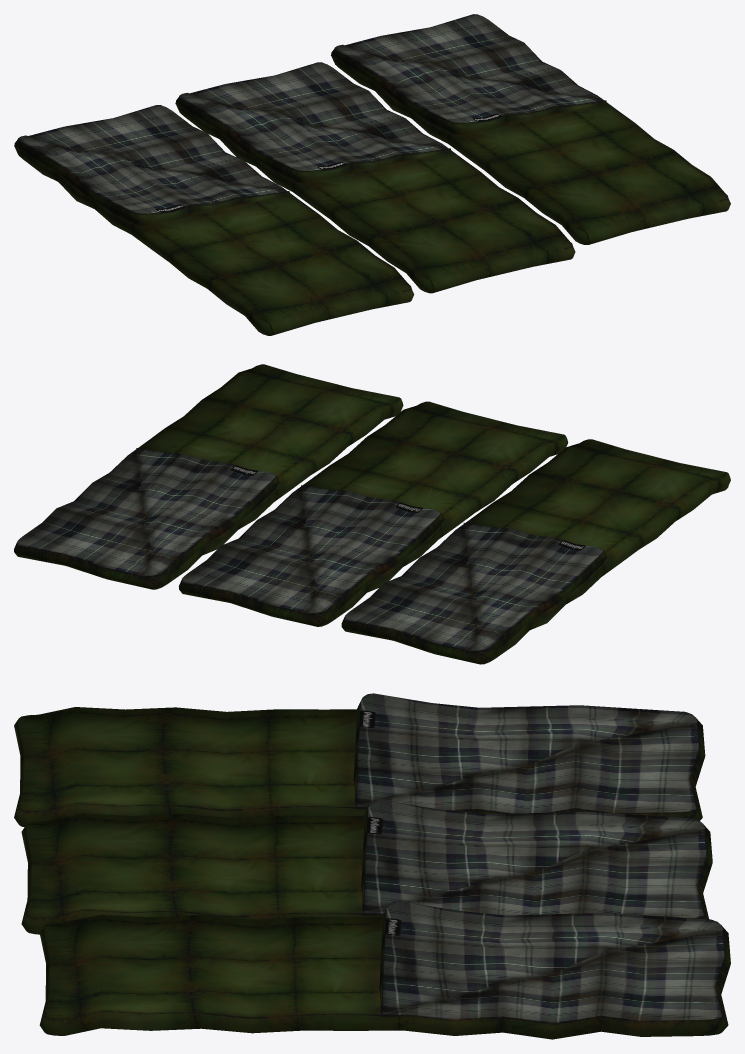
Rendered from sleepingbags.glb.
3 renders of one model, top to bottom at view 1: azimuth 30°, elevation 25°; view 2: azimuth 150°, elevation 25°; view 3: azimuth 270°, elevation 25°, orthographic. The views are drawn at different scales.
Parts seen in each view (by area): view 1: Cube.003, Cube.002, Cube.001; view 2: Cube.001, Cube.003, Cube.002; view 3: Cube.001, Cube.003, Cube.002.
Boxes of the visible parts, x1,y1,x2,y2 form: Cube.003: [14, 105, 414, 335]; Cube.002: [175, 62, 575, 293]; Cube.001: [331, 14, 730, 244]; Cube.001: [14, 364, 403, 589]; Cube.003: [341, 439, 730, 664]; Cube.002: [178, 401, 568, 626]; Cube.001: [39, 901, 730, 1039]; Cube.003: [14, 693, 705, 826]; Cube.002: [21, 800, 712, 934].
Bounding box in the file's own units: 1.88 × 0.1312 × 1.81.
1 material, 1 textured.
